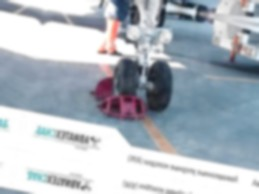chock: (95, 89, 150, 125), (89, 74, 116, 104)
wheel: (141, 58, 178, 113), (109, 56, 143, 100)
